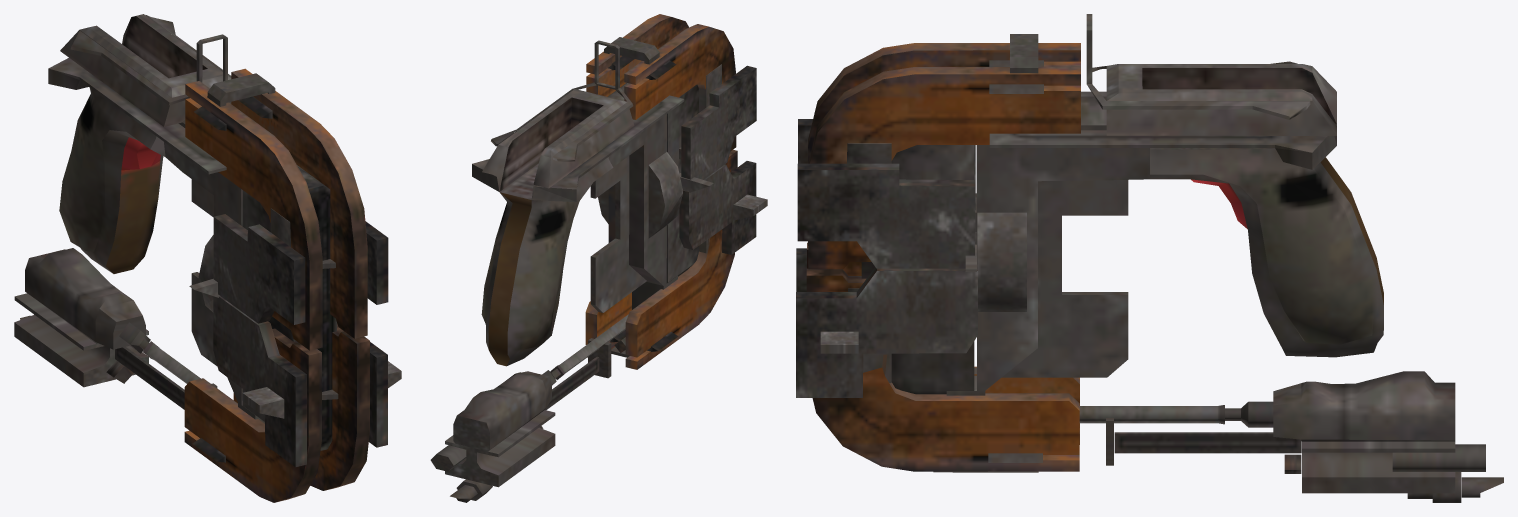
Rendered from plasmacutter.gltf.
The picture shows the model from 3 angles, left to right: view 1: azimuth 30°, elevation 25°; view 2: azimuth 150°, elevation 25°; view 3: azimuth 270°, elevation 25°; orthographic projection. The views are drawn at different scales.
Visible parts, largest first — view 1: Plasmacutter; view 2: Plasmacutter; view 3: Plasmacutter.
Part boxes in pixels (<box>): Plasmacutter: <box>14,14,401,502</box>; Plasmacutter: <box>430,14,767,502</box>; Plasmacutter: <box>796,14,1503,502</box>.
Size of the model in its own units: 0.1883 by 0.5485 by 0.7348.
Materials: 1 (1 with a texture image).
